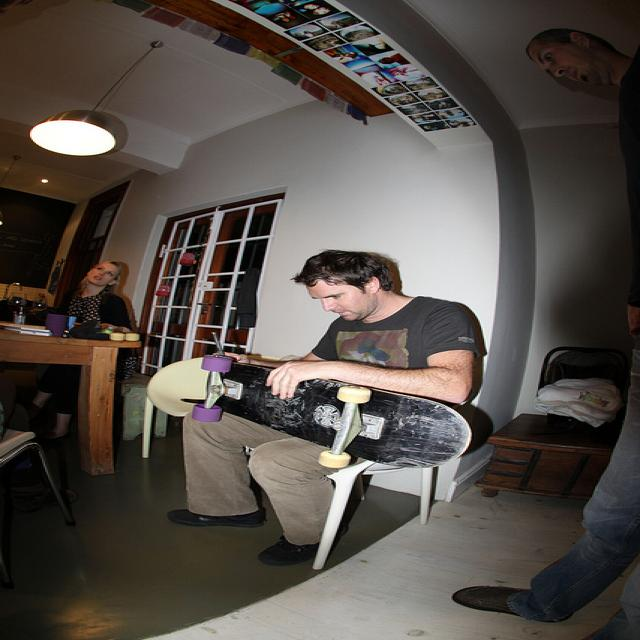chair: (311, 460, 439, 569), (2, 423, 71, 515)
dining table: (2, 336, 127, 477)
